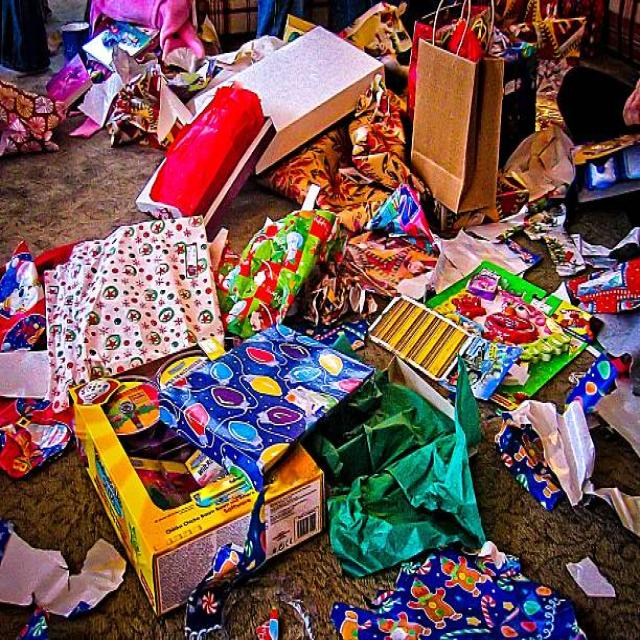cardboard: (404, 35, 527, 202)
trash: (25, 212, 571, 593), (133, 46, 388, 209)
